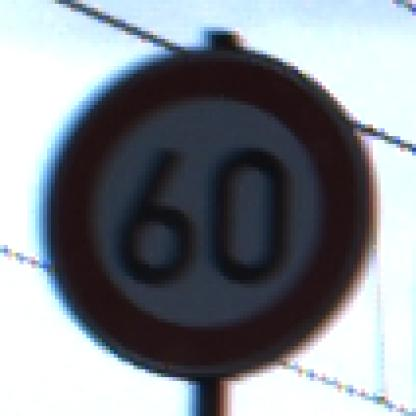Speed Limit 60: (53, 55, 362, 370)
